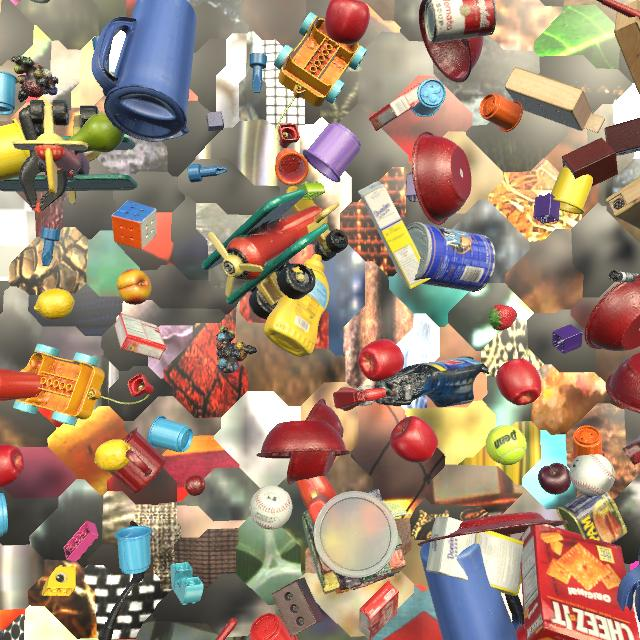ycb_002_master_chef_can: (395, 222, 496, 292), (0, 629, 4, 637)
ycb_003_cracker_box: (519, 524, 640, 640)
ycb_004_sugar_box: (358, 181, 431, 289), (426, 516, 523, 596)
ycb_005_tomato_soup_can: (424, 0, 497, 43)
ycb_006_mustard_bottle: (264, 254, 329, 357)
ycb_008_pudding_box: (622, 435, 640, 465)
ycb_009_gelatin_box: (369, 83, 421, 131), (114, 313, 166, 360), (359, 580, 399, 640)
ycb_010_potted_meat_can: (557, 492, 627, 544)
ycb_012_strawberry: (488, 305, 517, 331)
ycb_013_apple: (390, 416, 438, 463), (496, 358, 542, 405), (325, 0, 370, 44), (358, 339, 404, 382), (0, 444, 24, 488), (515, 624, 526, 640)
ycb_014_lemon: (34, 289, 75, 320), (94, 439, 132, 472)
ycb_015_peach: (116, 269, 152, 305)
ycb_016_pear: (69, 113, 125, 154)
ycb_018_plum: (538, 463, 571, 495)
